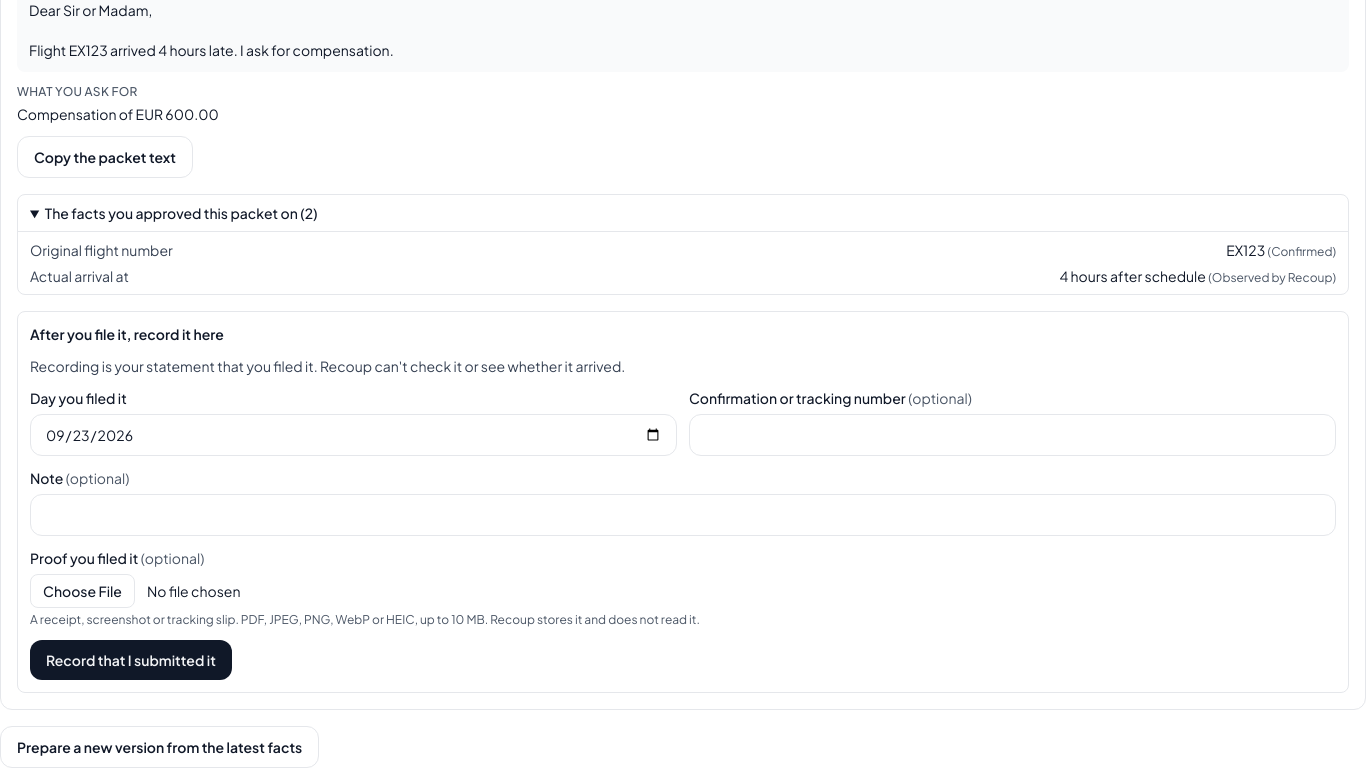
it: recording the user's own submission (submissions.record) › an approved packet is not sent: the user files it and records that they did
The image size is (1366, 768).
(page scrolled)
Check: the button "Copy the packet text" is shown, box 17,136 -> 193,178
Check: the field labelled "Letter" is not shown
Type "2026-02-03" into the date field labelled "Day you filed it". click: (354, 435)
box: 30,414 -> 677,456
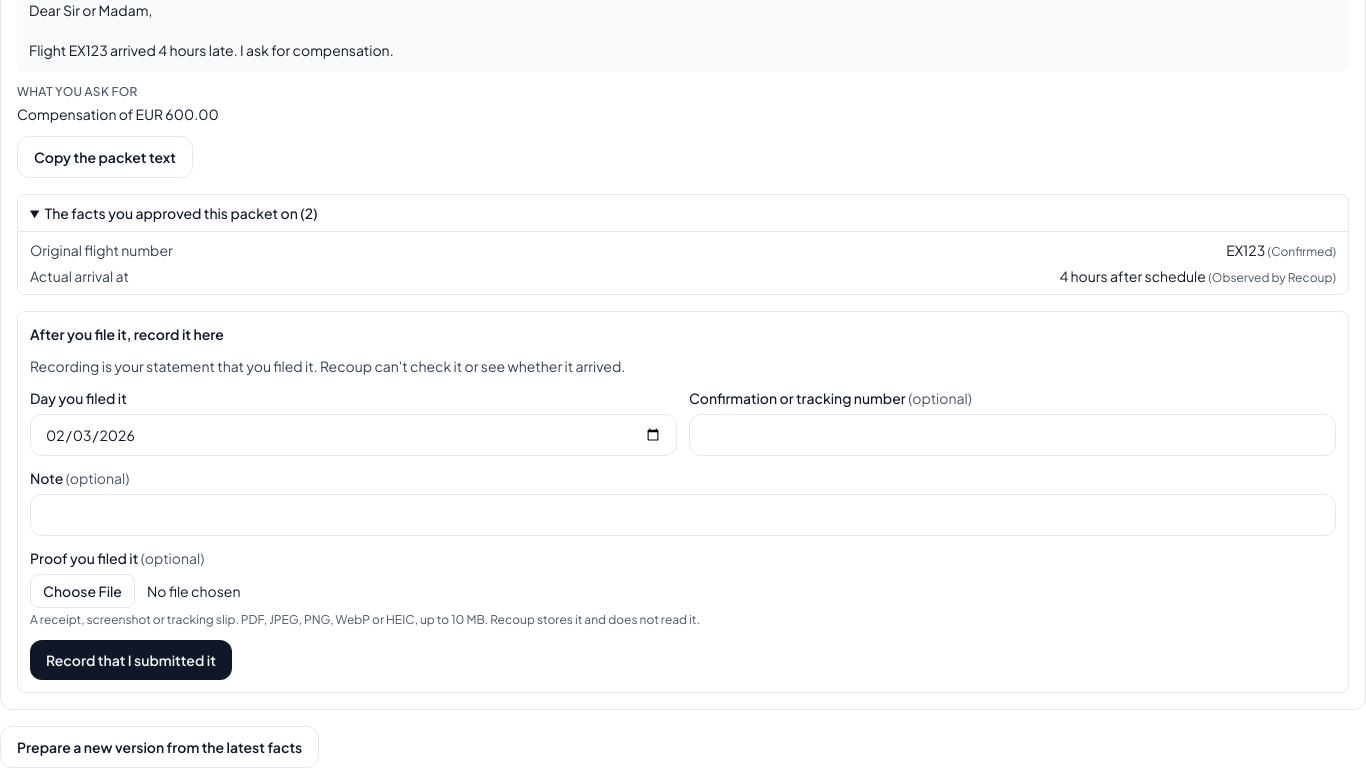
Type " RR123456789GB " into the field labelled "Confirmation or tracking number (optional)". click: (1012, 435)
box: 689,414 -> 1336,456
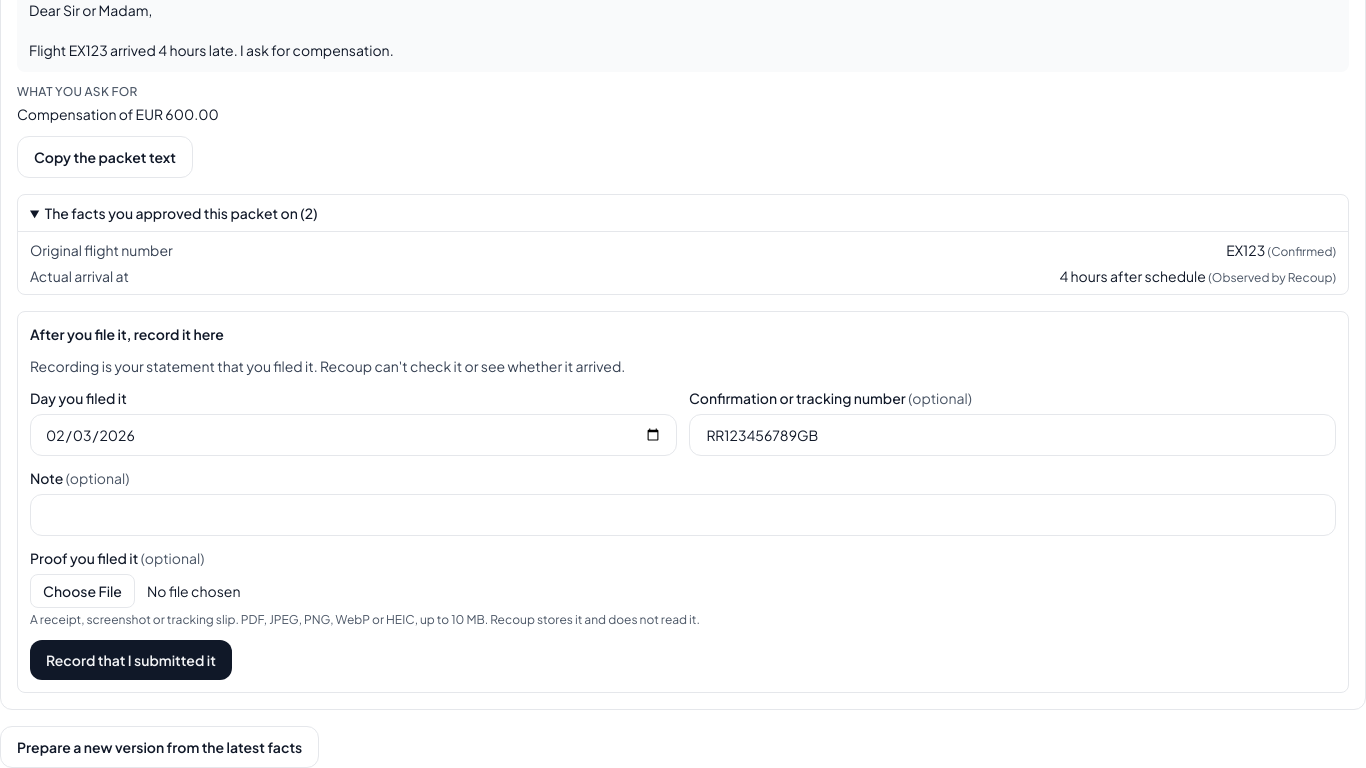
Click the button "Record that I submitted it". click: (131, 660)
box: 30,640 -> 232,680
(page scrolled)
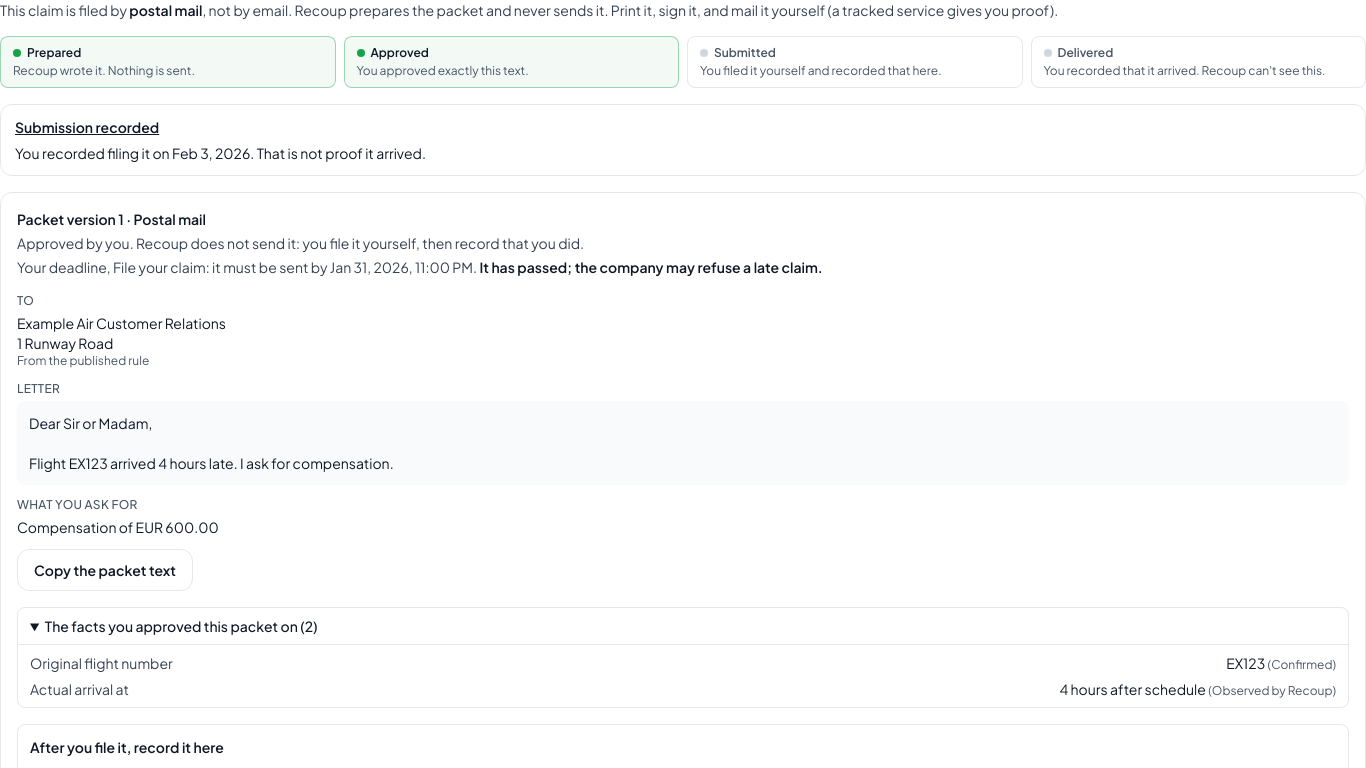
Check: the text "That is not proof it arrived." is shown, box 15,144 -> 426,162
